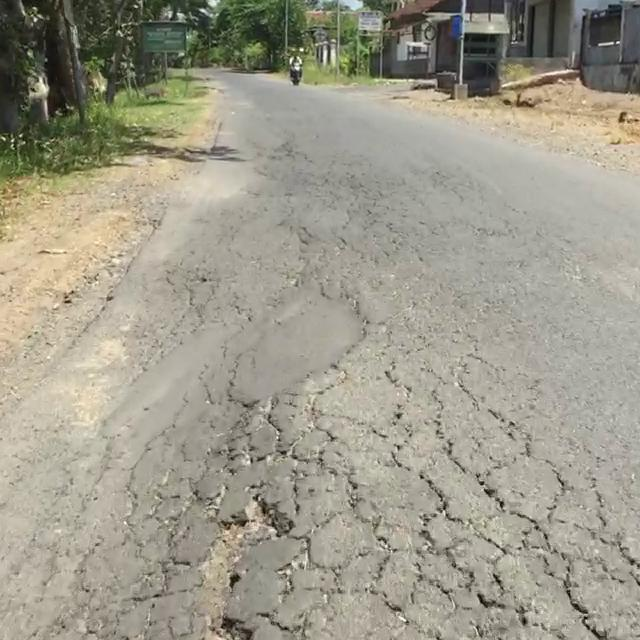retak_kulit_buaya: (292, 300, 640, 640)
